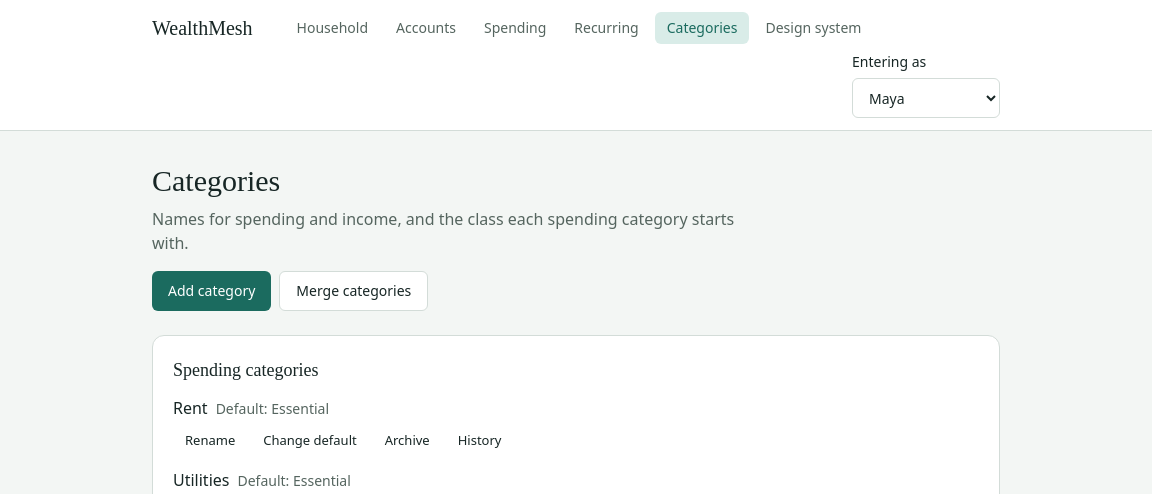
category list and creation › V2_CATEGORIES_008 a blank name shows "Enter a category name" and creates nothing
Step 1. Click the button "Add category" → {"x": 212, "y": 291}, box [152,271,271,311]
(page scrolled)
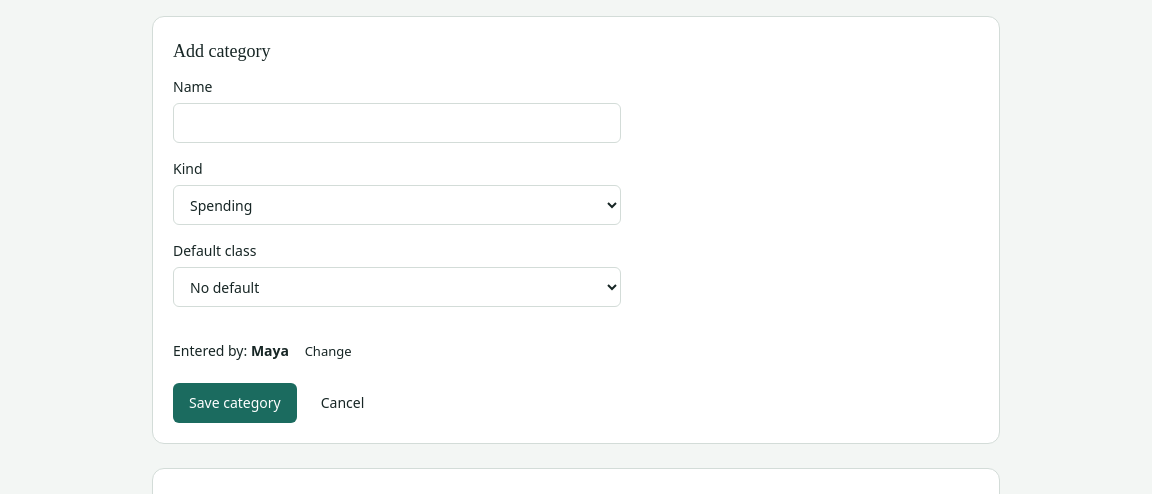
Step 2. Click the button "Save category" → {"x": 235, "y": 403}, box [173,383,297,423]
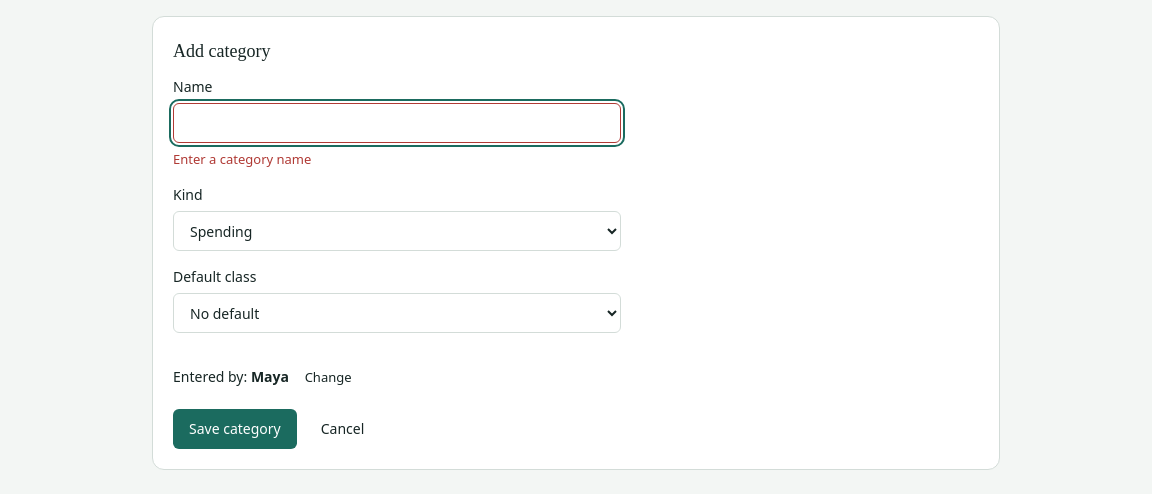
Expected: the text "Enter a category name" is shown, [173,150,311,168]
